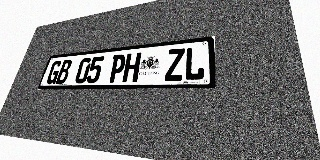0: (74, 57, 92, 84)
5: (86, 56, 104, 83)
B: (55, 59, 73, 84)
G: (45, 60, 63, 84)
H: (122, 52, 142, 82)
L: (184, 46, 205, 81)
P: (107, 54, 127, 83)
Z: (164, 48, 185, 81)
